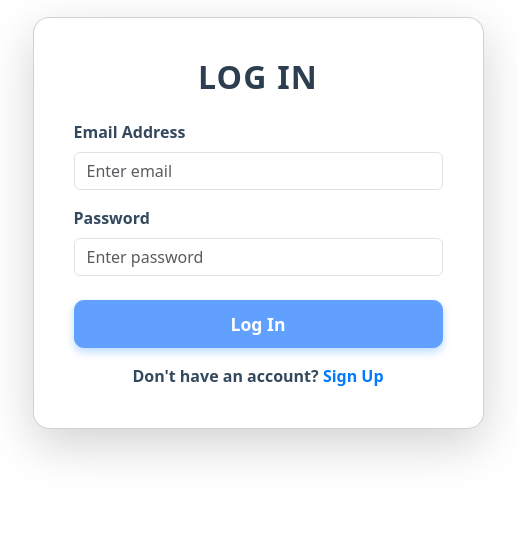
Test: LogIn Component › shows success message on successful login
This screenshot has width=518, height=553.
Step 1. Type "user@example.com" into the field labelled "Email Address" → (258, 171), box left=74, top=152, right=442, bottom=190
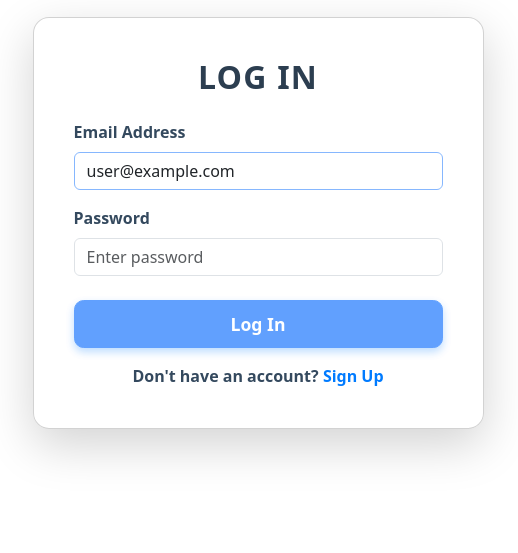
Step 2. Type "mypassword" into the password field labelled "Password" → (258, 257), box left=74, top=238, right=442, bottom=276
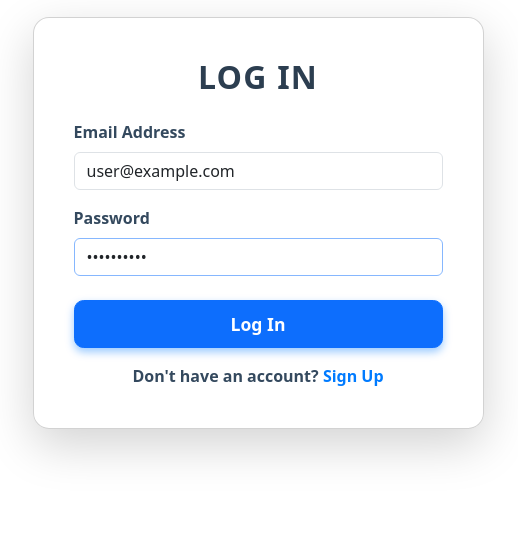
Expected: the button "Log In" is enabled
Step 3. Click the button "Log In" → (258, 324), box left=74, top=300, right=442, bottom=348
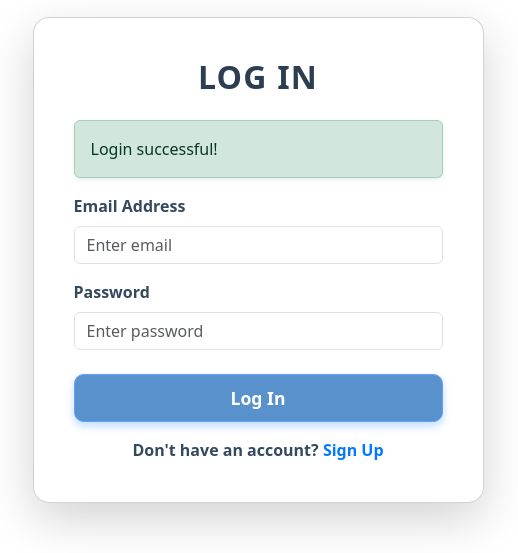
Expected: the text "Login successful!" is shown, left=74, top=120, right=442, bottom=178
